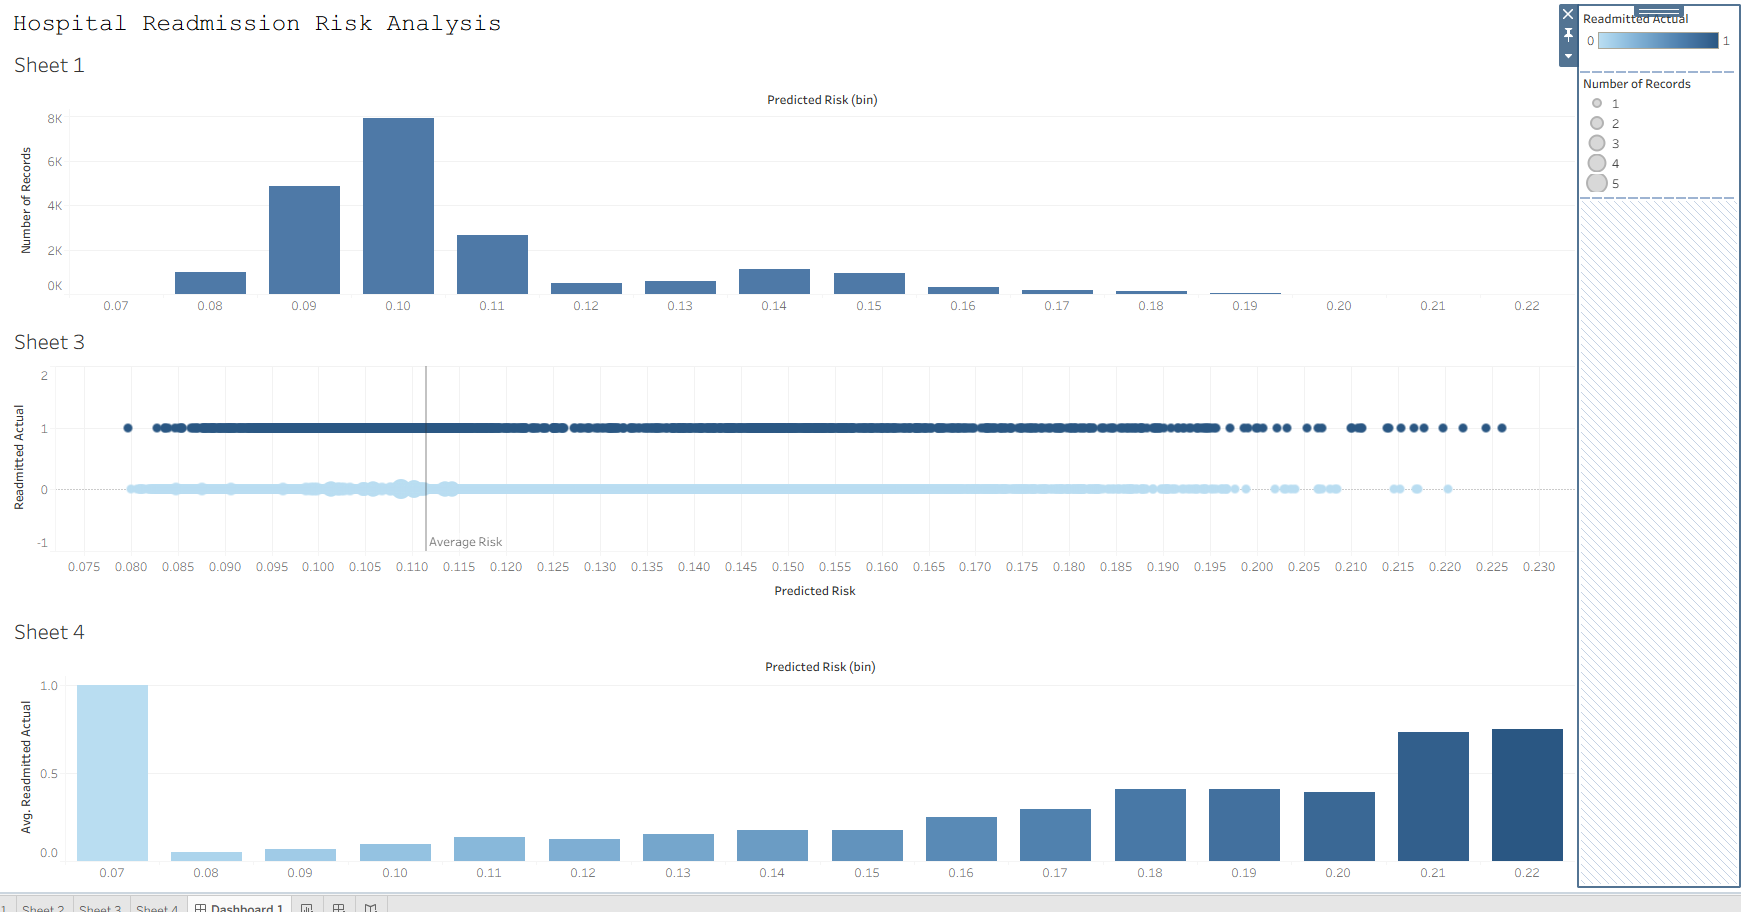

This screenshot's page, from the dashboard's own definition file:
{"tool":"tableau","page":{"name":"Dashboard 1","canvas":[1000,1000],"units":"permille","ordinal":0},"visuals":[{"type":"title","box":[4.6,8.9,899.4,40.2]},{"type":"legend","title":"Sheet 3","param":"[federated.15w0iuf1j0qqdo10eq3bg01tm870].[sum:readmitted_actual:qk]","box":[904,8.9,91.5,72.5]},{"type":"worksheet","title":"Sheet 1","mark":"Automatic","rows":["Calculation_0875531134623746"],"cols":["Predicted Risk (bin)"],"box":[4.6,49.1,899.4,308.8]},{"type":"legend","title":"Sheet 3","param":"[federated.15w0iuf1j0qqdo10eq3bg01tm870].[sum:Calculation_0875531134623746:qk]","box":[904,81.5,91.5,140.6]},{"type":"worksheet","title":"Sheet 3","mark":"Circle","rows":["readmitted_actual"],"cols":["predicted_risk"],"box":[4.6,357.9,899.4,324.4]},{"type":"worksheet","title":"Sheet 4","mark":"Automatic","rows":["readmitted_actual"],"cols":["Predicted Risk (bin)"],"box":[4.6,682.3,899.4,308.8]}]}

Visuals, with their boxes on the dashboard's canvas, which has no fixed pixel size, in thousandths of its width and height (x1, y1, x2, y2). These are canvas units, not pixel positions in the 1741x912 screenshot, which may show the page scaled, cropped or inside an application window:
title: pyautogui.locateOnScreen(5, 9, 904, 49)
"Sheet 3" legend: pyautogui.locateOnScreen(904, 9, 996, 81)
"Sheet 1" worksheet: pyautogui.locateOnScreen(5, 49, 904, 358)
"Sheet 3" legend: pyautogui.locateOnScreen(904, 82, 996, 222)
"Sheet 3" worksheet (Circle marks): pyautogui.locateOnScreen(5, 358, 904, 682)
"Sheet 4" worksheet: pyautogui.locateOnScreen(5, 682, 904, 991)
